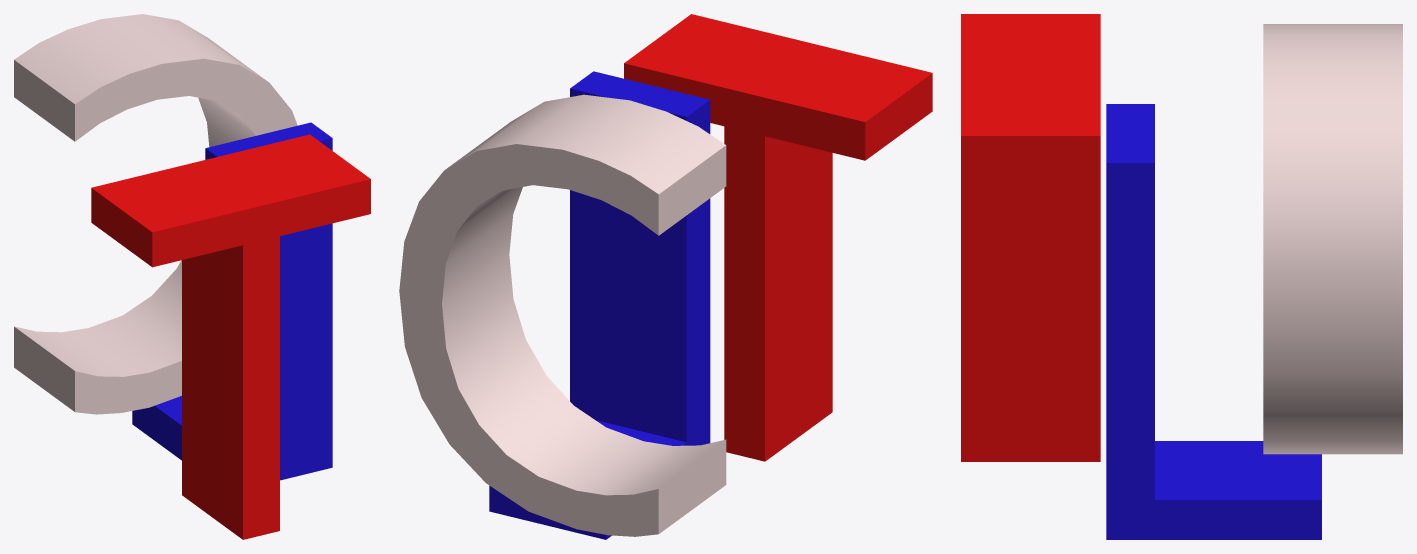
The model's file is tlc.glb.
3 renders of one model, left to right at view 1: azimuth 30°, elevation 25°; view 2: azimuth 150°, elevation 25°; view 3: azimuth 270°, elevation 25°, orthographic. The views are drawn at different scales.
Parts seen in each view (by area): view 1: mesh_id46, mesh_id60, mesh_id53; view 2: mesh_id60, mesh_id46, mesh_id53; view 3: mesh_id46, mesh_id60, mesh_id53.
Boxes of the visible parts, <box> form: mesh_id46: <box>91,134,370,539</box>; mesh_id60: <box>14,14,297,414</box>; mesh_id53: <box>132,122,332,480</box>; mesh_id60: <box>399,94,726,536</box>; mesh_id46: <box>624,14,932,461</box>; mesh_id53: <box>489,71,710,539</box>; mesh_id46: <box>961,14,1100,461</box>; mesh_id60: <box>1263,24,1402,454</box>; mesh_id53: <box>1106,104,1321,539</box>.
Size of the model in its own units: 0.1029 by 0.1283 by 0.1187.
3 materials, 3 textured.
